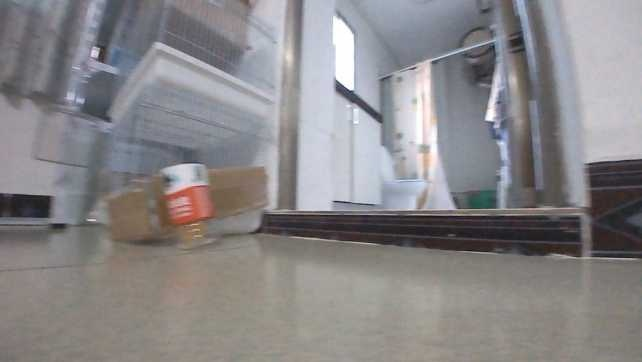toilet: (372, 144, 424, 210)
